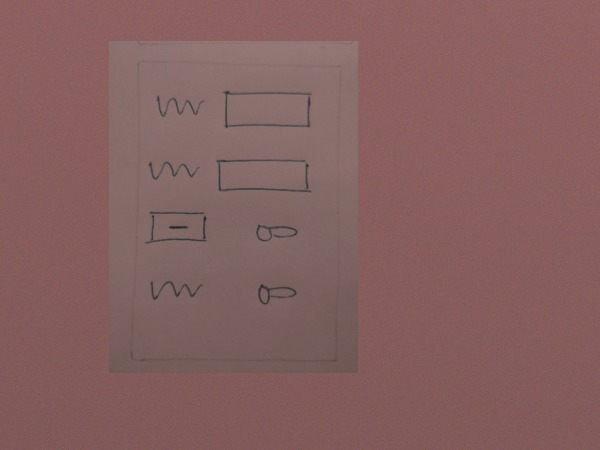button: (142, 208, 212, 250)
switch: (253, 279, 300, 311), (252, 220, 300, 247)
text: (148, 91, 209, 124), (147, 273, 204, 303), (145, 157, 201, 186)
text_input: (219, 86, 315, 135), (213, 156, 316, 197)
